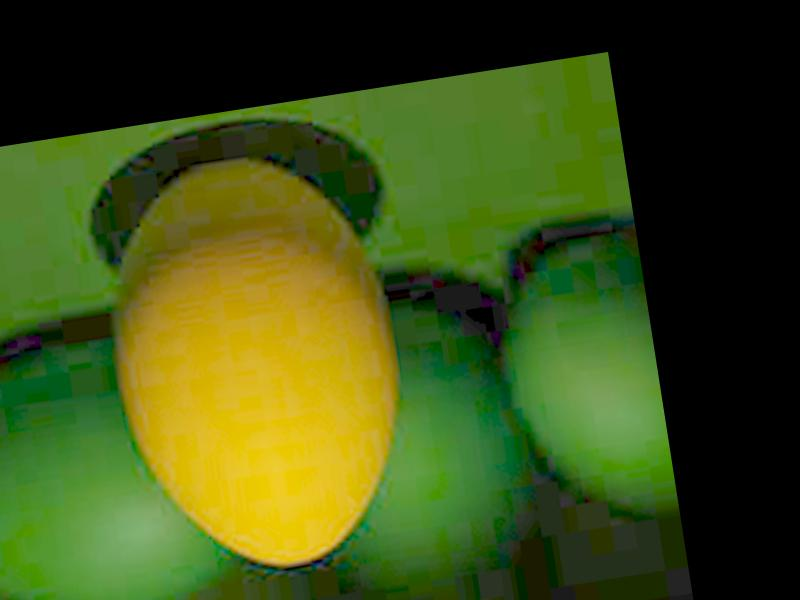Eggs: (89, 139, 424, 583)
